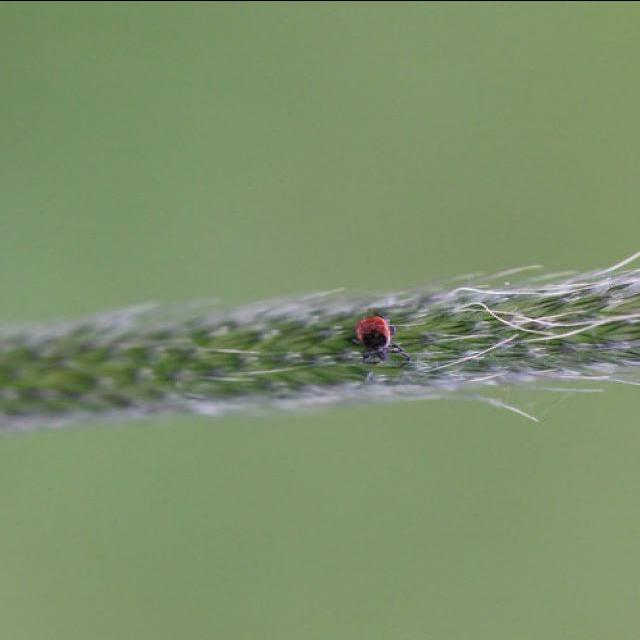Ixodes Ricinus-F: (352, 315, 392, 361), (392, 344, 409, 360)
